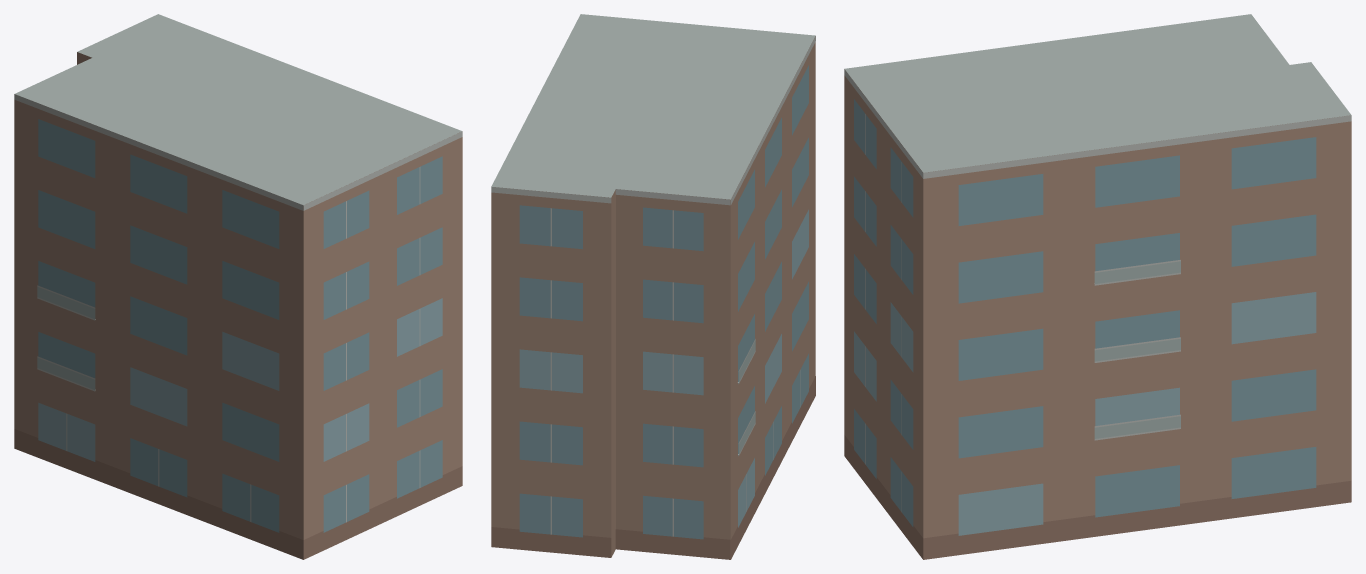
Rendered from survey-upis-32682108.glb.
The picture shows the model from 3 angles, left to right: view 1: azimuth 30°, elevation 25°; view 2: azimuth 150°, elevation 25°; view 3: azimuth 270°, elevation 25°; orthographic projection. The views are drawn at different scales.
Parts seen in each view (by area): view 1: survey-upis-32682108.tmp; view 2: survey-upis-32682108.tmp; view 3: survey-upis-32682108.tmp.
Part boxes in pixels (x1,y1,x2,y2): survey-upis-32682108.tmp: (14,14,462,559); survey-upis-32682108.tmp: (491,14,815,559); survey-upis-32682108.tmp: (844,14,1351,559).
Bounding box in the file's own units: 13.42 × 15.25 × 18.12.
